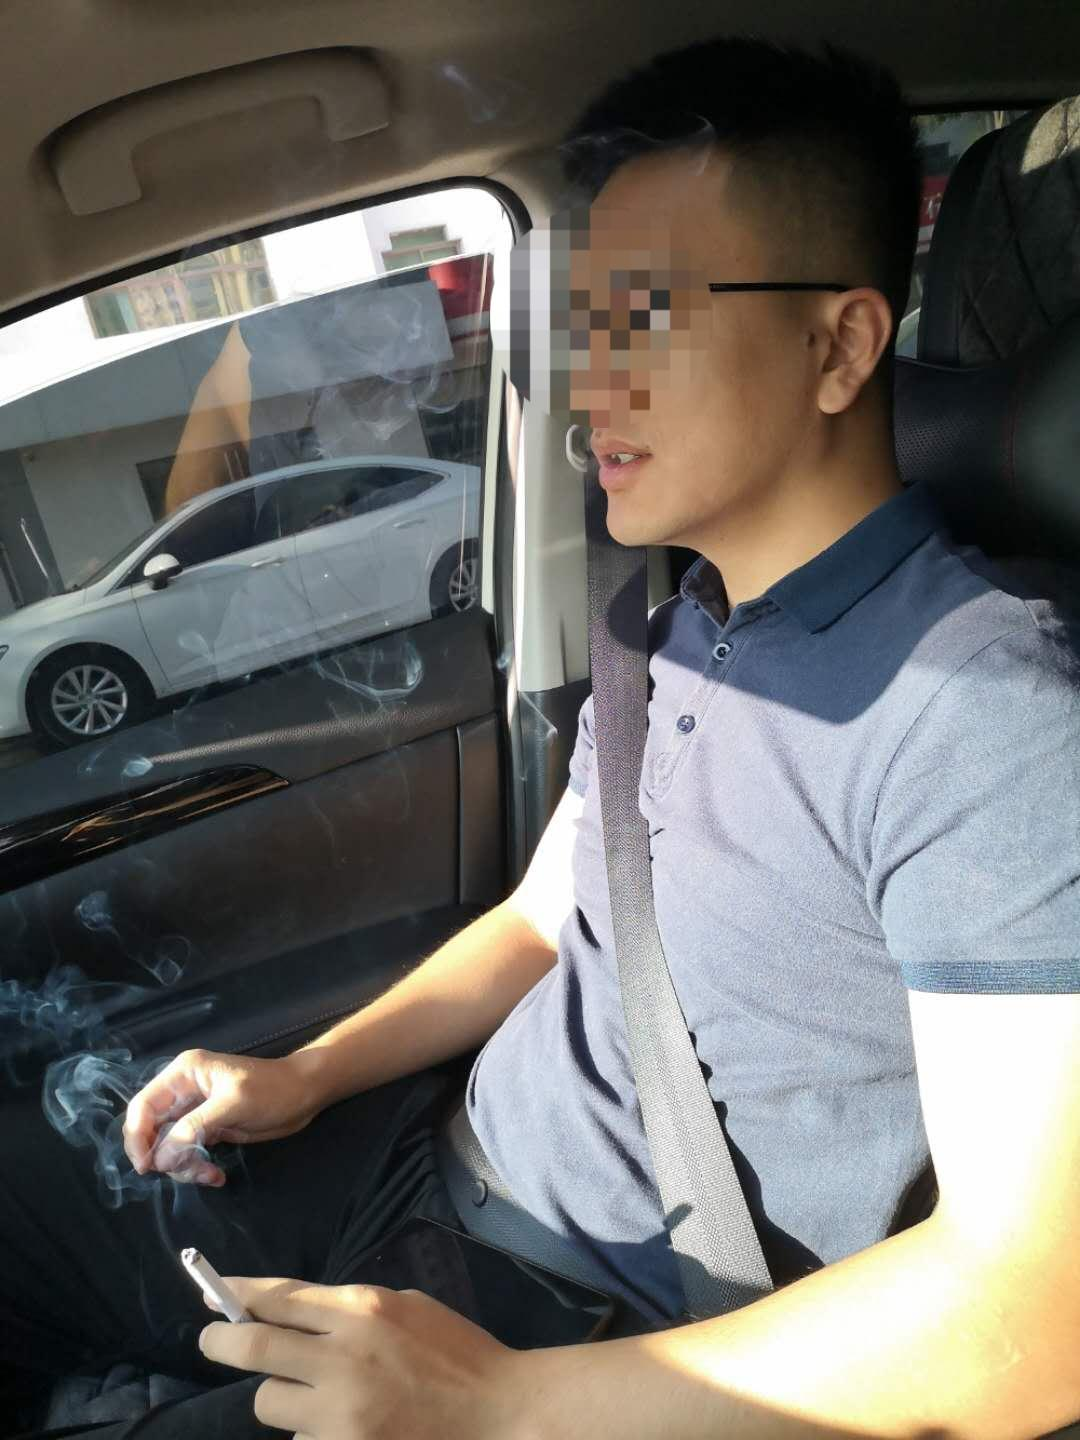smoke: (176, 1246, 248, 1324)
